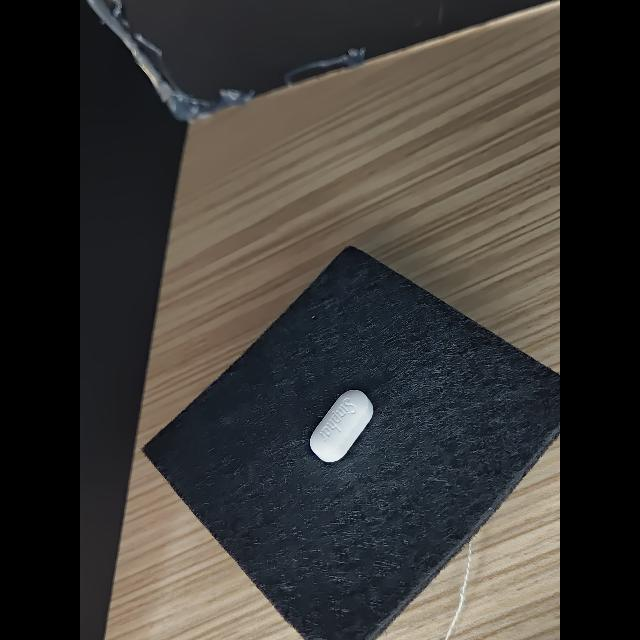Intact Pill: (310, 390, 373, 462)
